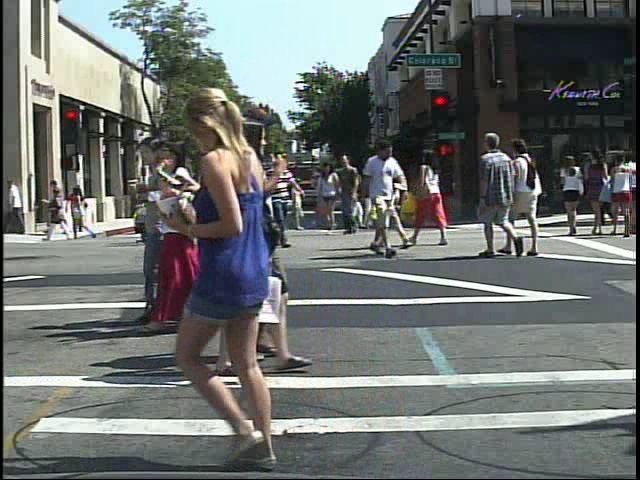person: (163, 78, 344, 476), (174, 119, 295, 381), (136, 134, 236, 343), (244, 105, 315, 366), (129, 129, 173, 331), (359, 133, 407, 259), (476, 127, 518, 263), (372, 133, 413, 252), (202, 142, 242, 260), (242, 150, 284, 261), (511, 133, 548, 259), (410, 143, 452, 251), (264, 147, 307, 251), (223, 150, 261, 253), (194, 153, 232, 252), (558, 150, 590, 238), (168, 172, 189, 240), (67, 182, 88, 232)
